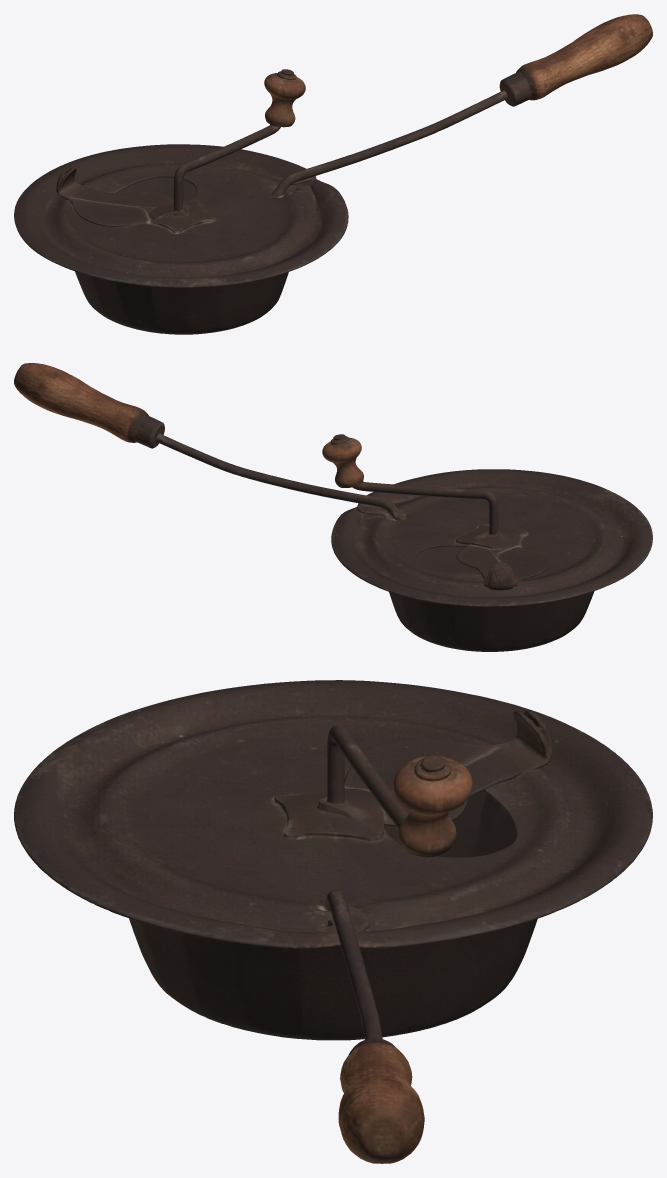
The model's file is przilica.glb.
3 renders of one model, top to bottom at view 1: azimuth 30°, elevation 25°; view 2: azimuth 150°, elevation 25°; view 3: azimuth 270°, elevation 25°, orthographic. The views are drawn at different scales.
Size of the model in its own units: 1.9 by 0.5102 by 0.8896.
Materials: 1 (1 with a texture image).
